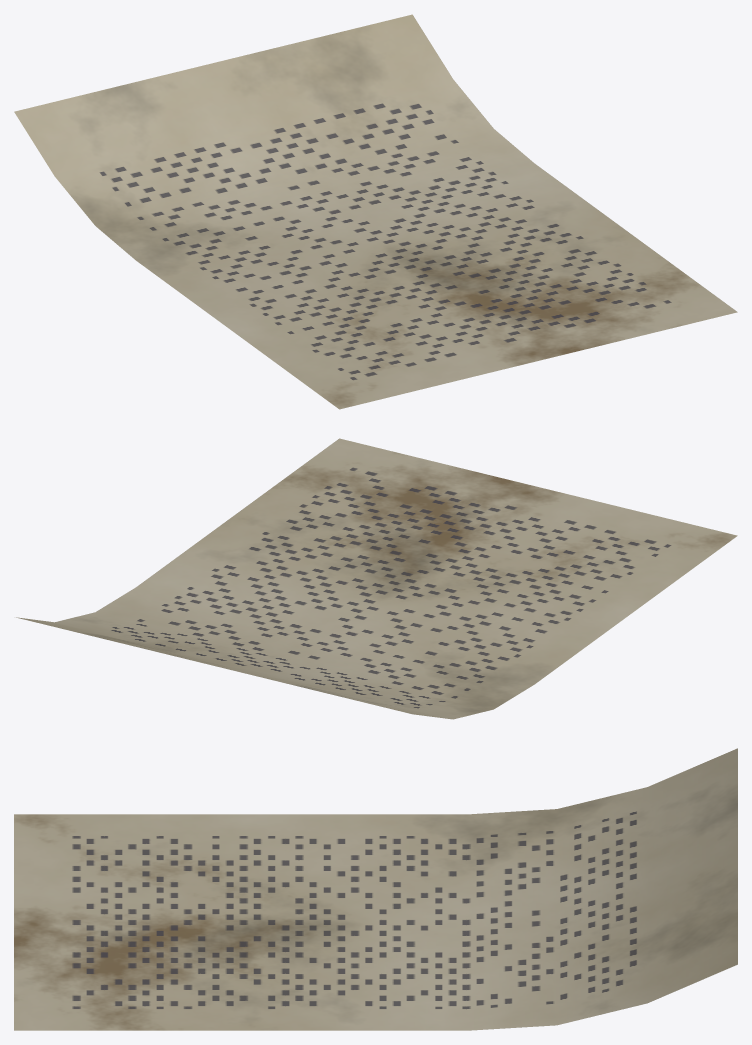
The model's file is SM_Paper_Sheet.fbx.
The picture shows the model from 3 angles, top to bottom: view 1: azimuth 30°, elevation 25°; view 2: azimuth 150°, elevation 25°; view 3: azimuth 270°, elevation 25°; orthographic projection. The views are drawn at different scales.
Visible parts, largest first — view 1: SM_Paper_Sheet; view 2: SM_Paper_Sheet; view 3: SM_Paper_Sheet.
Boxes of the visible parts, box(x1,y1,x2,y2) form: SM_Paper_Sheet: box(14, 14, 737, 409); SM_Paper_Sheet: box(16, 438, 737, 719); SM_Paper_Sheet: box(14, 748, 737, 1030).
Size of the model in its own units: 0.21 by 0.03 by 0.297.
Materials: 1 (1 with a texture image).
